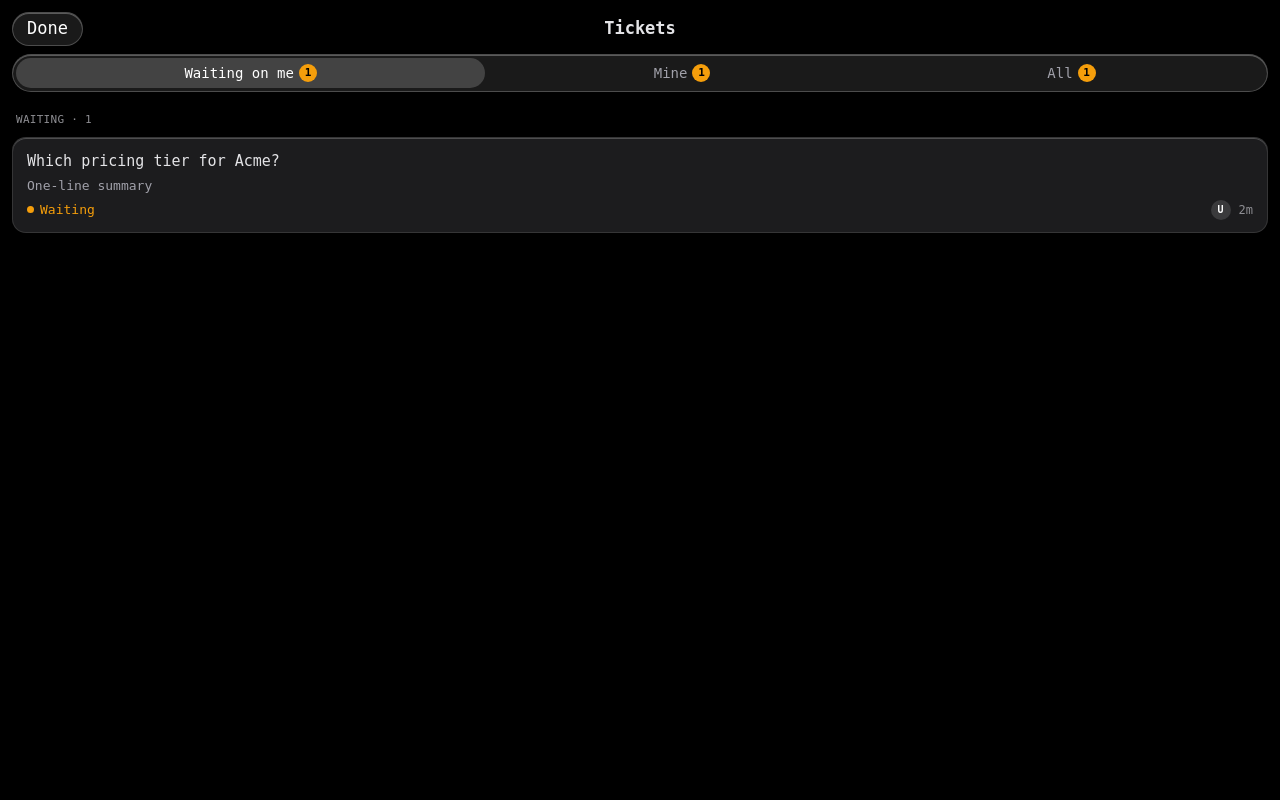
it: Open ticket — answering › highlights the accepted pill and shows a delivery miss
This screenshot has width=1280, height=800.
Click the text "Which pricing tier for Acme?" at (153, 160), box [27, 152, 280, 170]
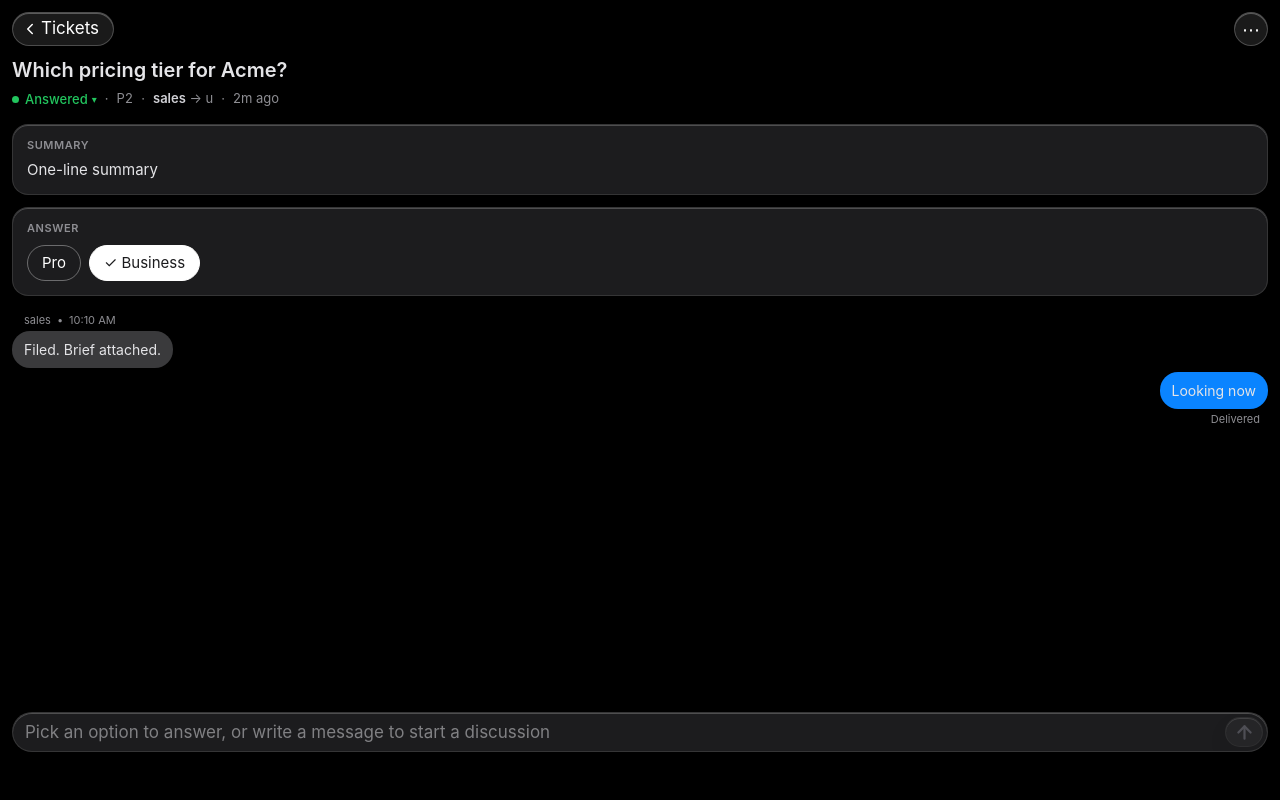
expect the element with test id "ticket-view" is shown: met
expect the element with test id "ticket-comments" is shown: met, box [12, 308, 1268, 427]
expect the button with test id "answer-pill" reads "✓ Business": met, box [89, 245, 200, 281]
Click the button with test id "answer-pill" showing "Pro" at (54, 263), box [27, 245, 81, 281]
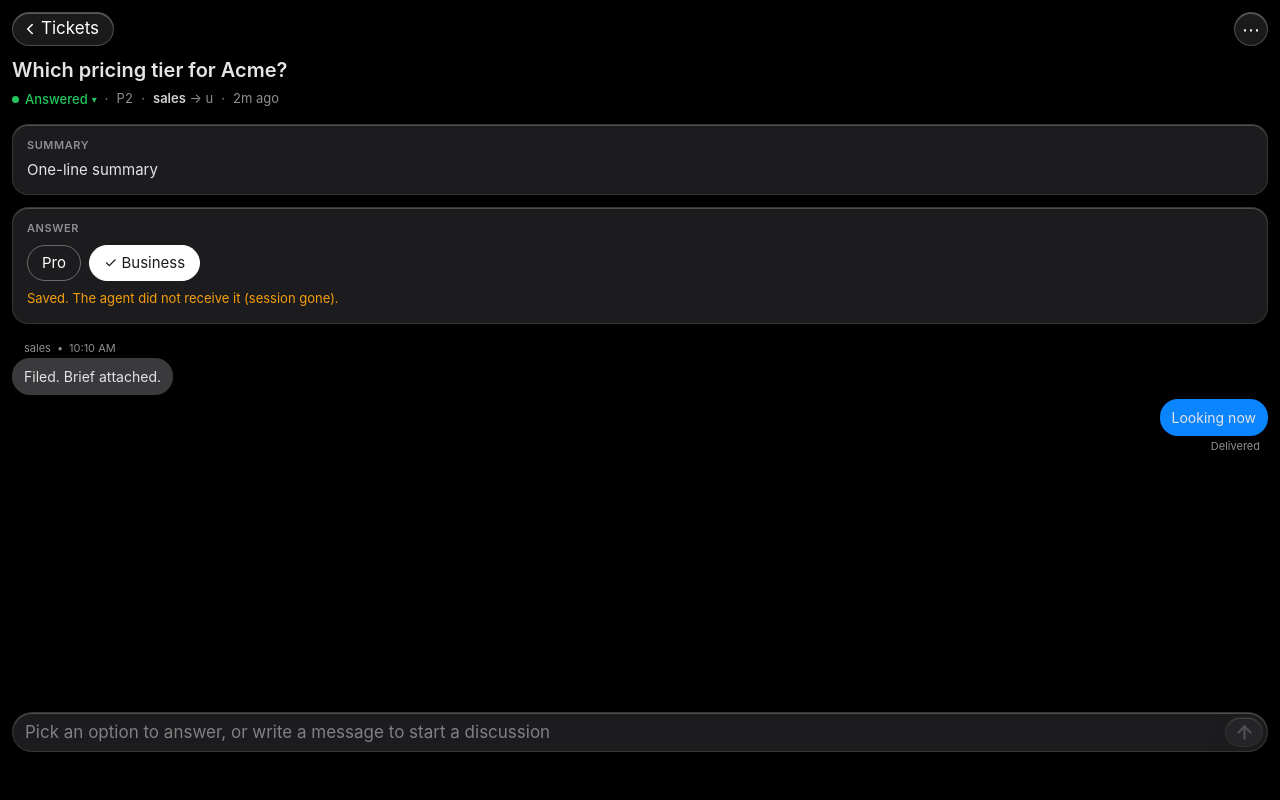
expect the text with test id "delivery-miss" reads "Saved. The agent did not receive it (session gone).": met, box [27, 290, 339, 306]
